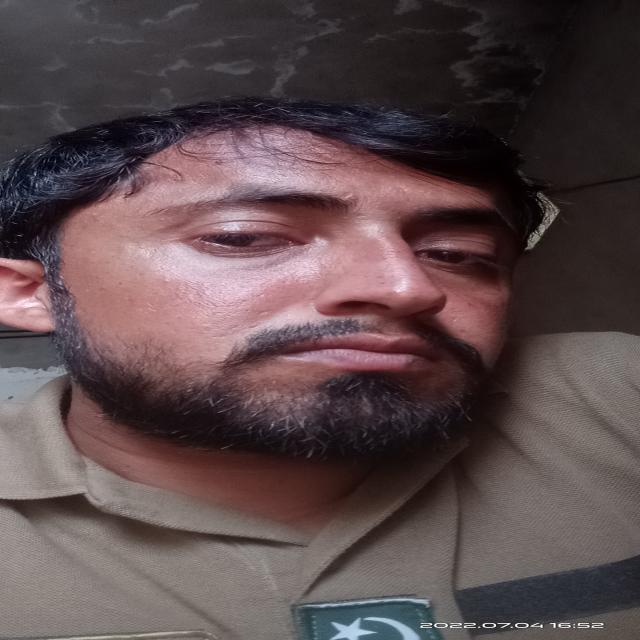Acne: (375, 280, 392, 285), (88, 212, 102, 218), (160, 278, 171, 283)
Englarged-Pores: (172, 276, 268, 334)
